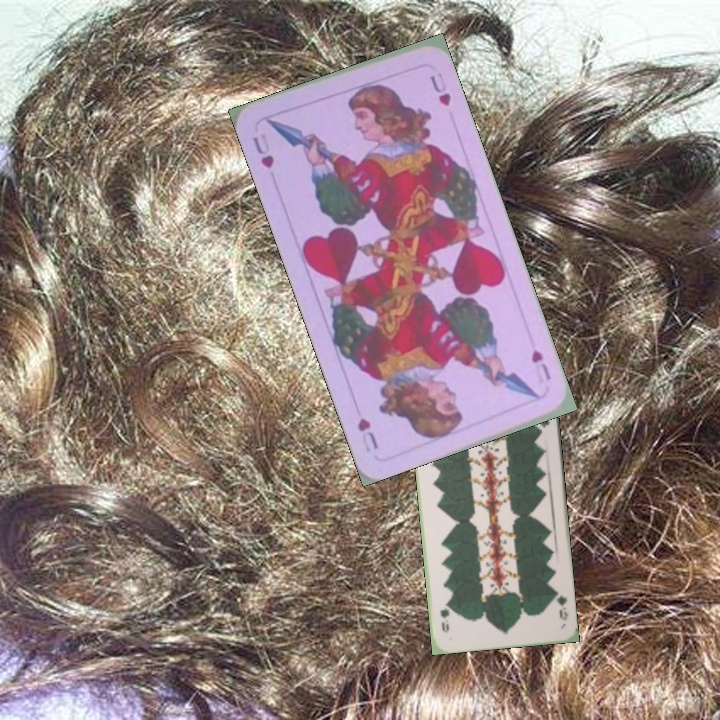G9: (550, 587, 571, 623)
HU: (249, 130, 277, 171), (527, 345, 554, 383)
